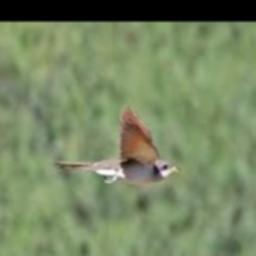Cuckoo: (55, 105, 179, 183)
